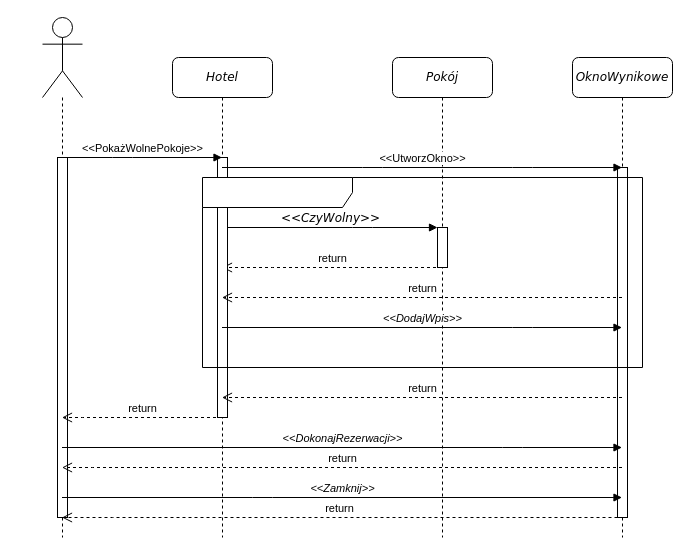
The diagram is 690 pixels wide and 555 high, and some of its shapes have lost their labels. The shapes that lost their labels are listed below. From the top down, each one's box as (x1, y1, x2, y2) in pixels, then its label:
(42, 16, 82, 538): Recepcjonista
(202, 176, 642, 368): petla na wszytkie pokoje
